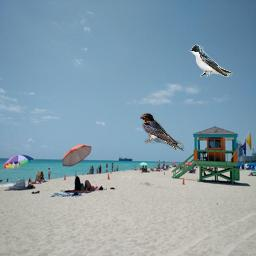Swallow: (140, 113, 185, 152), (189, 44, 233, 77)
